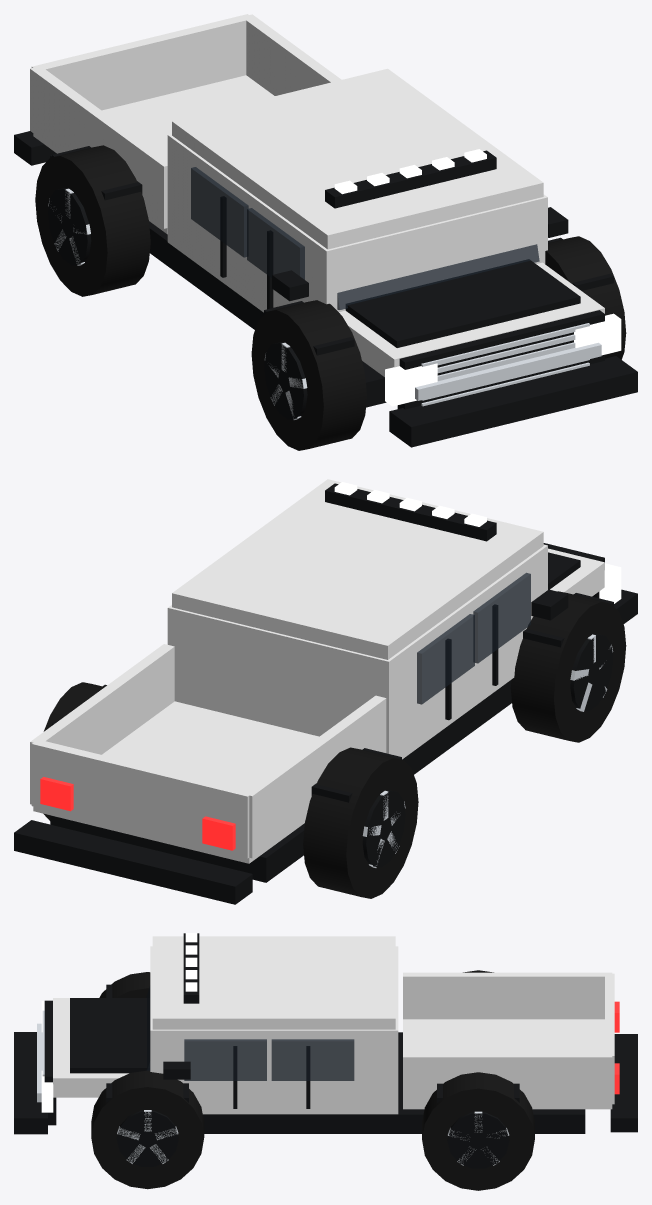
File: shovel-mastodon.glb
3 renders of one model, top to bottom at view 1: azimuth 30°, elevation 25°; view 2: azimuth 150°, elevation 25°; view 3: azimuth 270°, elevation 25°, orthographic. The views are drawn at different scales.
Visible parts, largest first — view 1: chassis, wheel-back-left, wheel-front-left, wheel-front-right, glass; view 2: chassis, wheel-back-left, wheel-front-left, wheel-back-right; view 3: chassis, wheel-back-right, wheel-front-right, wheel-front-left.
Part boxes in pixels (box(x1,y1,x2,y2)): chassis: box(14, 14, 637, 447); wheel-back-left: box(35, 145, 150, 296); wheel-front-left: box(251, 300, 366, 450); wheel-front-right: box(545, 236, 626, 359); glass: box(337, 244, 539, 309); chassis: box(14, 479, 637, 904); wheel-back-left: box(303, 747, 418, 898); wheel-front-left: box(510, 591, 626, 742); wheel-back-right: box(43, 682, 104, 820); chassis: box(14, 933, 637, 1134); wheel-back-right: box(422, 1072, 534, 1190); wheel-front-right: box(91, 1070, 204, 1189); wheel-front-left: box(99, 972, 150, 997).
Bounding box in the file's own units: 2.95 × 1.94 × 6.41.
